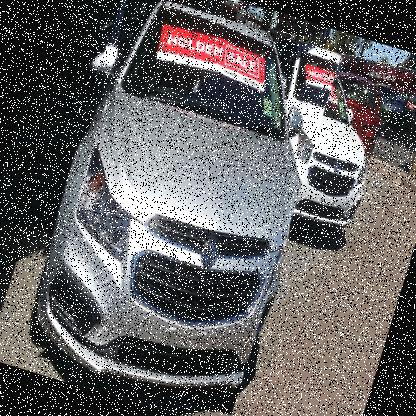Car: (13, 0, 343, 415)
